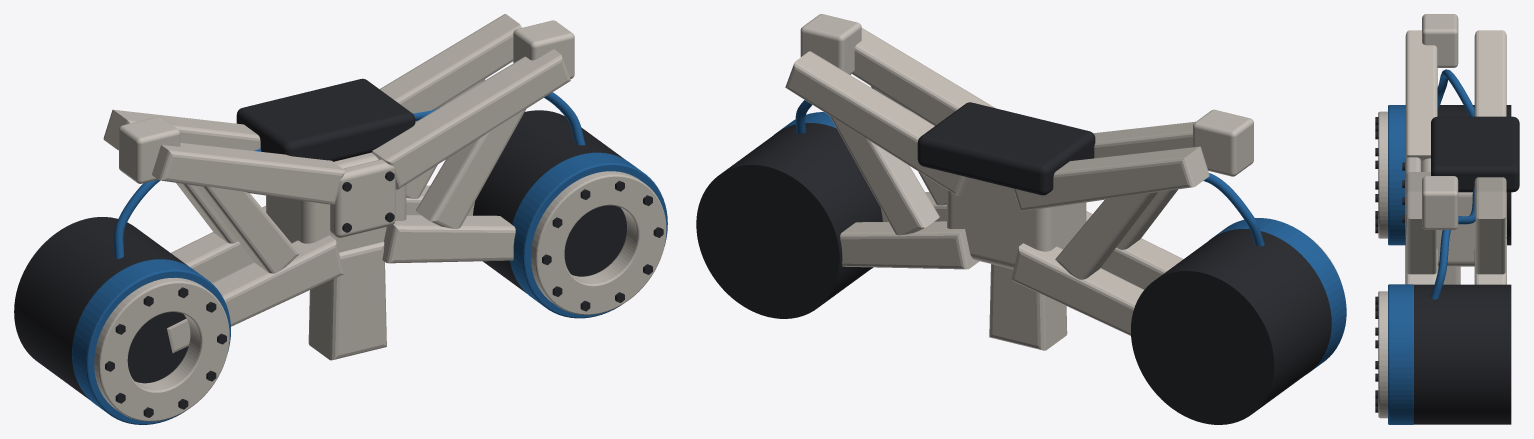
File: anatomy-21.glb
The picture shows the model from 3 angles, left to right: view 1: azimuth 30°, elevation 25°; view 2: azimuth 150°, elevation 25°; view 3: azimuth 270°, elevation 25°; orthographic projection. The views are drawn at different scales.
Visible parts, largest first — view 1: truss, motors, flanges, tabs, bearings, waist, bridge-cover, bridge, harness; view 2: motors, truss, waist, tabs, bridge, bearings, harness; view 3: motors, truss, bearings, waist, tabs, flanges, bridge, harness, bridge-cover.
Part boxes in pixels (box(x1,y1,x2,y2)): truss: box(103, 14, 570, 353); motors: box(14, 110, 626, 400); flanges: box(94, 171, 666, 421); tabs: box(119, 20, 574, 360); bearings: box(72, 152, 667, 424); waist: box(236, 78, 415, 161); bridge-cover: box(330, 159, 395, 237); bridge: box(266, 152, 406, 252); harness: box(114, 92, 585, 258); motors: box(696, 123, 1331, 424); truss: box(785, 28, 1209, 335); waist: box(917, 102, 1095, 195); tabs: box(800, 14, 1253, 350); bridge: box(947, 177, 1086, 269); bearings: box(774, 112, 1346, 373); harness: box(795, 100, 1264, 246); motors: box(1414, 105, 1511, 424); truss: box(1405, 30, 1506, 284); bearings: box(1388, 105, 1413, 424); waist: box(1431, 116, 1519, 192); tabs: box(1422, 14, 1460, 284); flanges: box(1375, 111, 1387, 418); bridge: box(1421, 158, 1475, 266); harness: box(1431, 69, 1475, 299); bridge-cover: box(1402, 157, 1421, 228).
Bounding box in the file's own units: 2.74 × 1.21 × 0.699.
